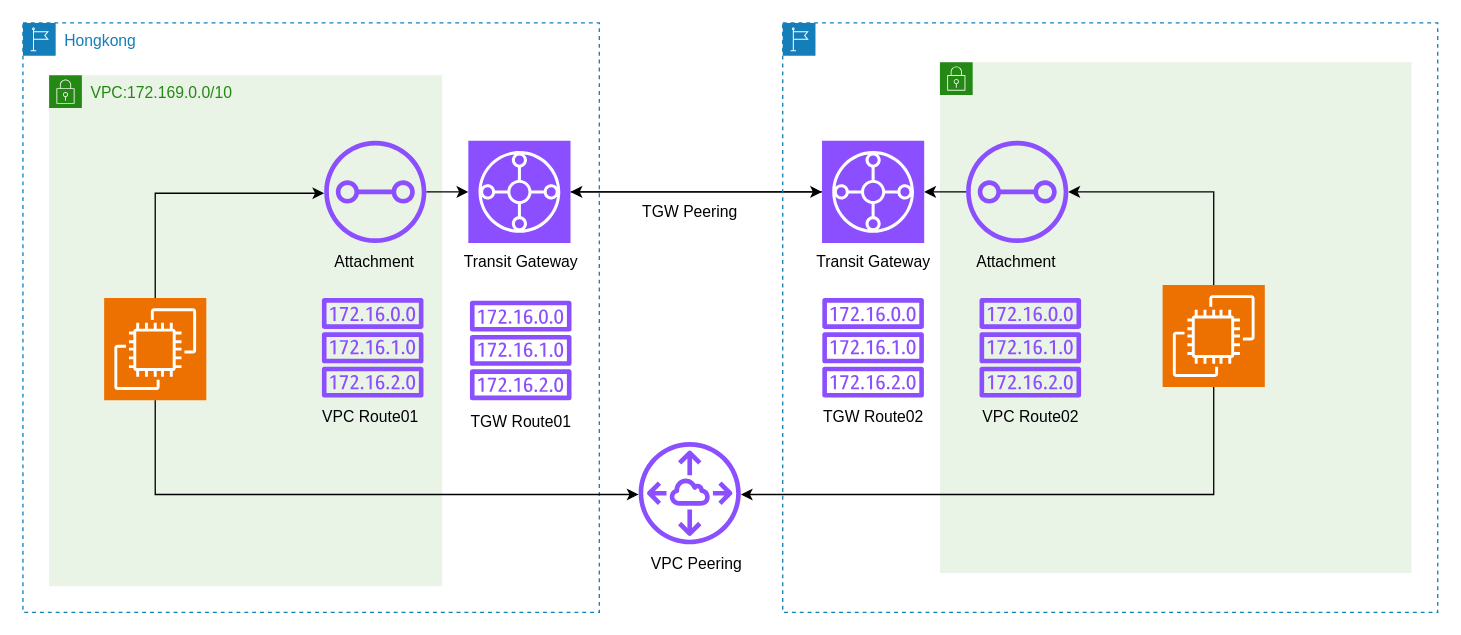
Image size: 1461x635. Some labels were removed from this diagram. The box of each missing label's shape, as (x1, y1, x2, y2) in pixels:
Singapore: (781, 22, 1438, 612)
VPC: 10.0.0.0//16: (939, 61, 1412, 573)
